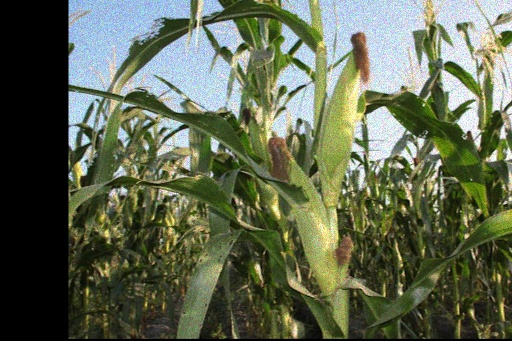corn_plant: (267, 137, 340, 297), (325, 30, 371, 207)
